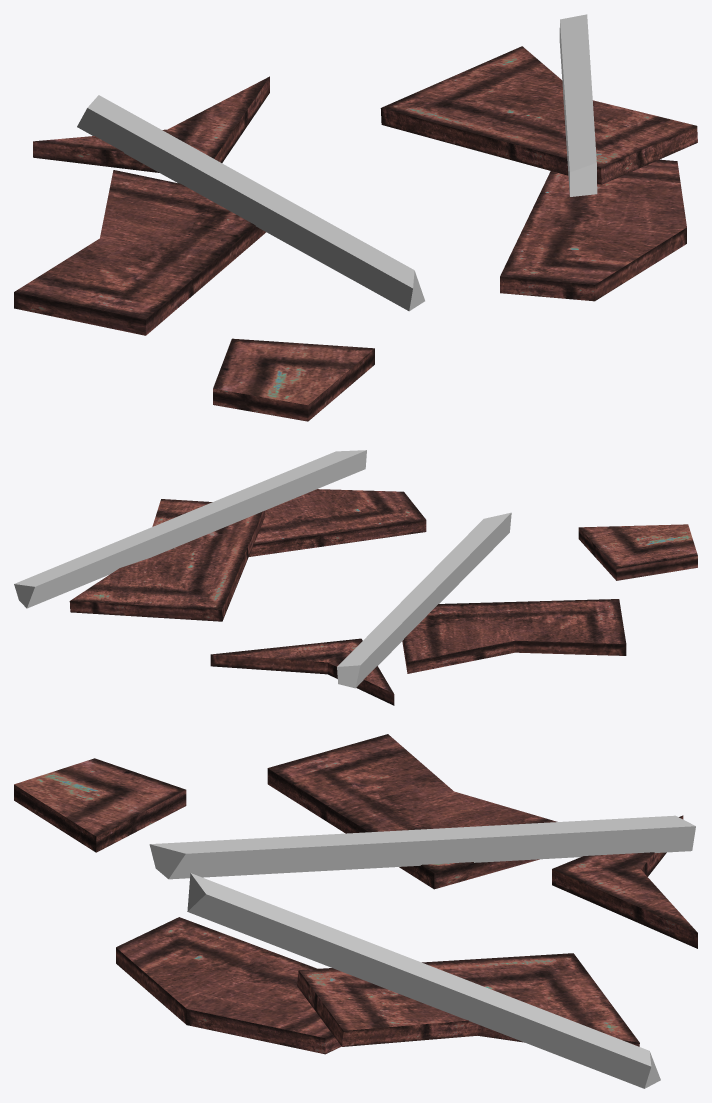
File: mansionbase_roof_wood.dae
The picture shows the model from 3 angles, top to bottom: view 1: azimuth 30°, elevation 25°; view 2: azimuth 150°, elevation 25°; view 3: azimuth 270°, elevation 25°; orthographic projection. The views are drawn at different scales.
Visible parts, largest first — view 1: polySurface50, polySurface51; view 2: polySurface50, polySurface51; view 3: polySurface50, polySurface51.
Boxes of the visible parts, x1,y1,x2,y2 form: polySurface50: (14,46,697,421); polySurface51: (77,14,597,311); polySurface50: (69,489,697,705); polySurface51: (14,450,511,688); polySurface50: (14,734,697,1054); polySurface51: (149,815,695,1088).
Size of the model in its own units: 3.7 by 0.5026 by 3.14.
